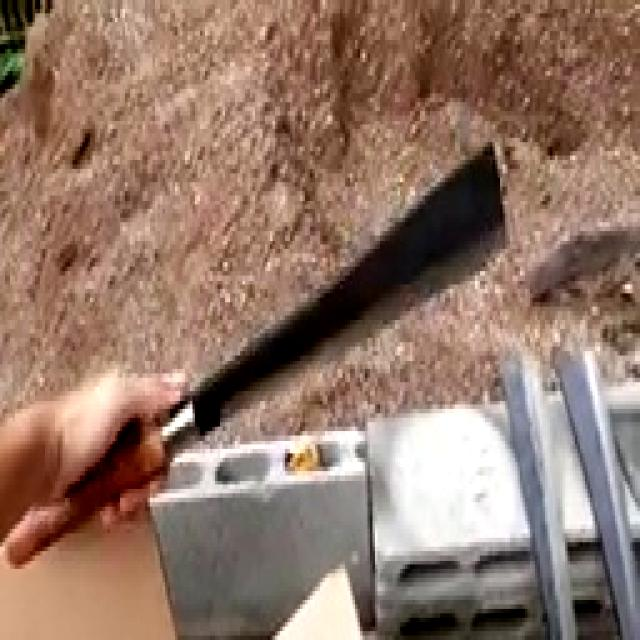eto: (2, 128, 513, 584), (552, 340, 640, 640)
